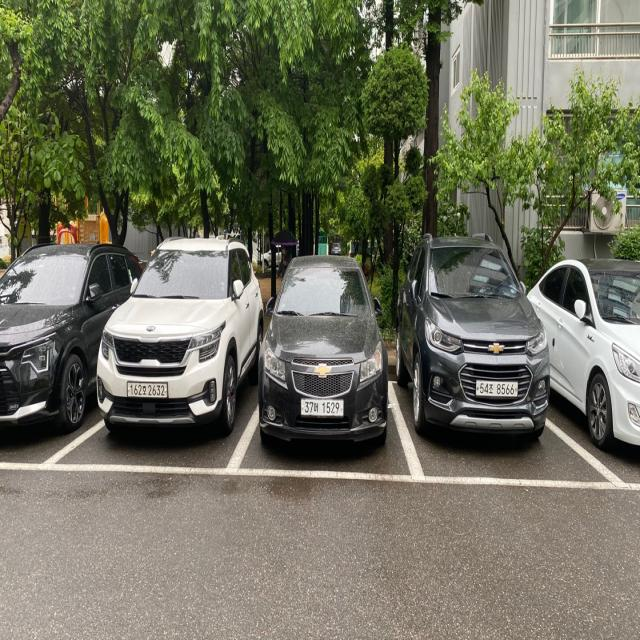occupied: (402, 228, 550, 449), (96, 237, 253, 438), (261, 252, 390, 446), (0, 237, 98, 433), (554, 247, 640, 457)
